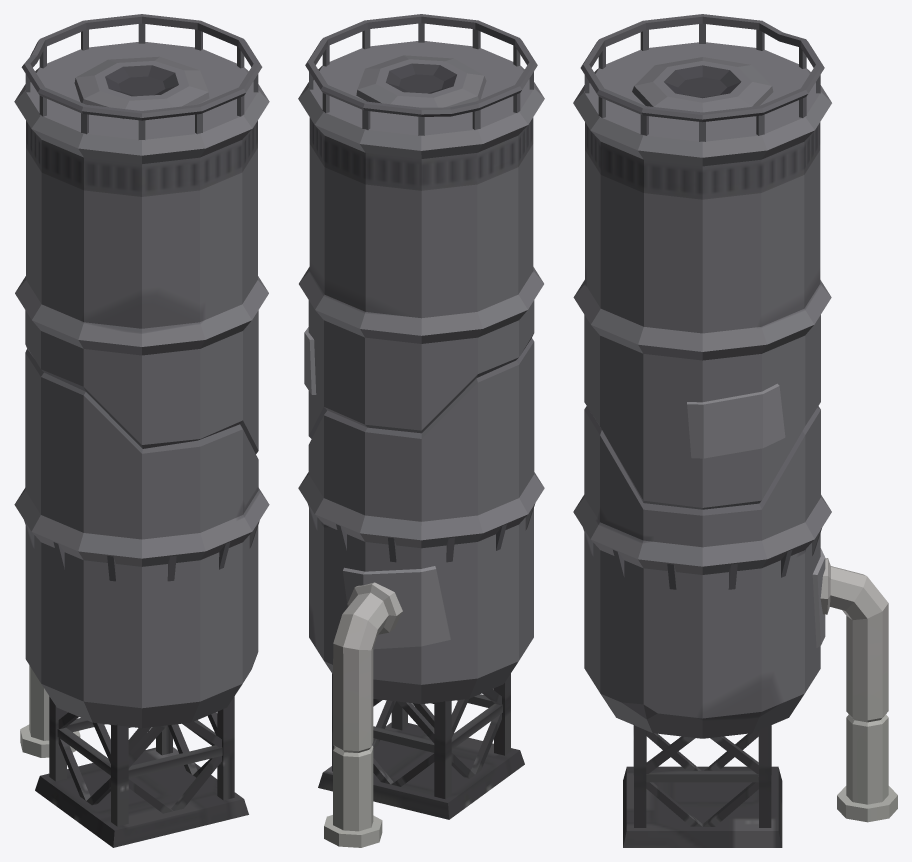
Rendered from worlds_SM_Bld_Scav_Refinery_Silo_04.gltf.
3 views of the same model, side by side, from view 1: azimuth 30°, elevation 25°; view 2: azimuth 150°, elevation 25°; view 3: azimuth 270°, elevation 25° (orthographic). The views are drawn at different scales.
Parts seen in each view (by area): view 1: SM_Bld_Scav_Refinery_Silo_04; view 2: SM_Bld_Scav_Refinery_Silo_04; view 3: SM_Bld_Scav_Refinery_Silo_04.
Boxes of the visible parts, left/top/right/bottom form: SM_Bld_Scav_Refinery_Silo_04: left=14, top=14, right=269, bottom=847; SM_Bld_Scav_Refinery_Silo_04: left=298, top=14, right=544, bottom=847; SM_Bld_Scav_Refinery_Silo_04: left=573, top=14, right=897, bottom=847.
Bounding box in the file's own units: 4.68 × 14.93 × 5.86.
1 material, 1 textured.
